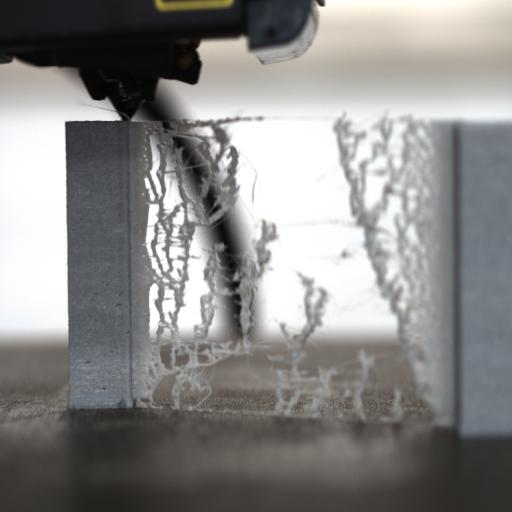stringing: (329, 108, 441, 416), (146, 126, 198, 352), (269, 267, 334, 415), (128, 122, 156, 402), (215, 136, 242, 223), (235, 269, 262, 343), (252, 218, 278, 274), (143, 132, 162, 203), (170, 114, 262, 127), (375, 114, 395, 152)
